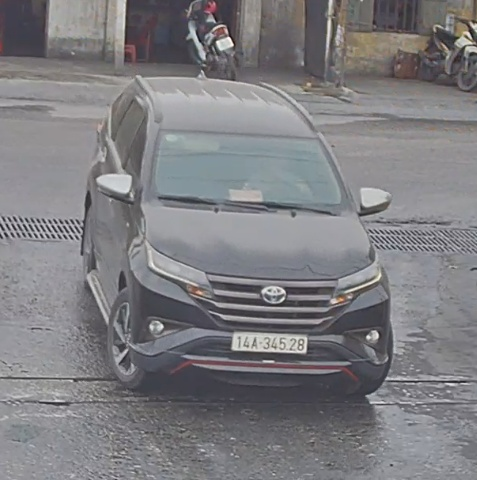vehicle plate: (229, 324, 310, 354)
